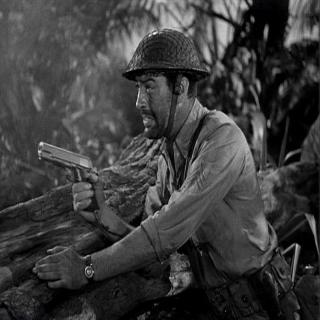gun: (36, 139, 103, 214)
